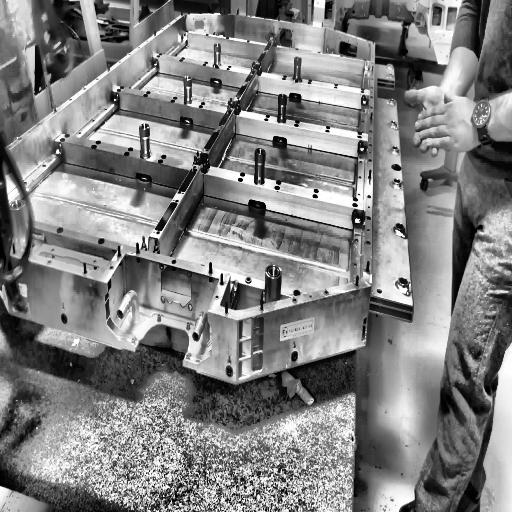b_casing: (5, 13, 416, 321)
